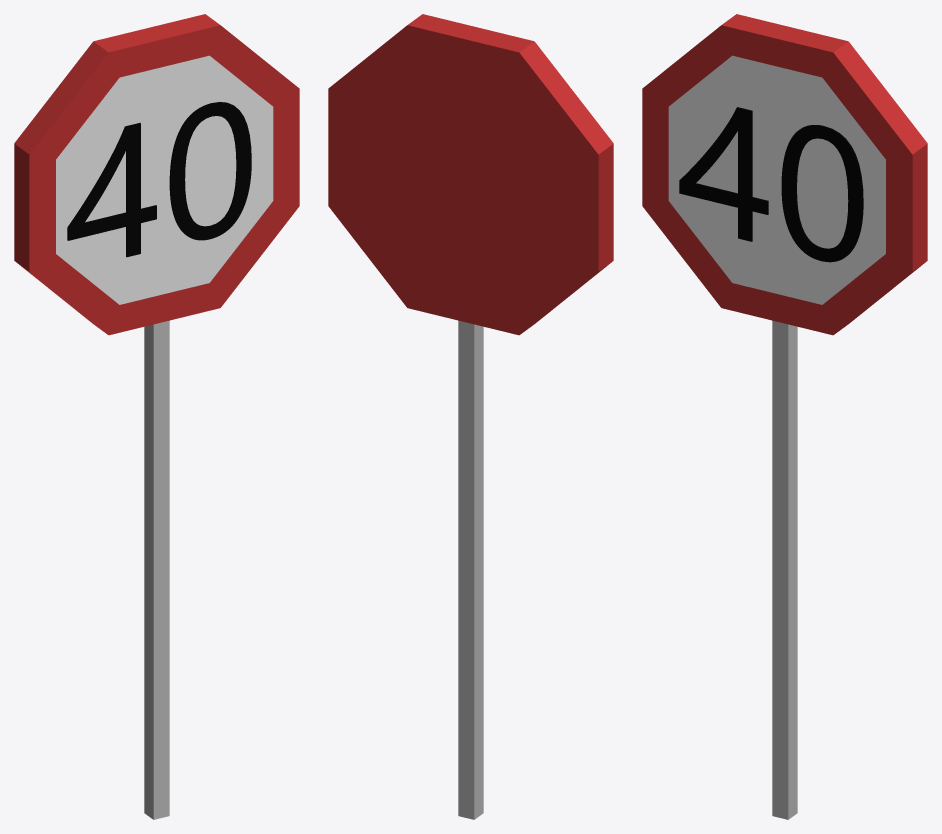
The model's file is 40_speed_sign.fbx.
3 views of the same model, side by side, from view 1: azimuth 30°, elevation 25°; view 2: azimuth 150°, elevation 25°; view 3: azimuth 330°, elevation 25° (orthographic).
Visible parts, largest first — view 1: 40_speed_sign; view 2: 40_speed_sign; view 3: 40_speed_sign.
Part boxes in pixels (bbox=[...]): 40_speed_sign: bbox=[14, 14, 299, 819]; 40_speed_sign: bbox=[328, 14, 613, 819]; 40_speed_sign: bbox=[642, 14, 927, 819].
Bounding box in the file's own units: 1.19 × 3.29 × 0.1231.
Materials: 2 (1 with a texture image).
